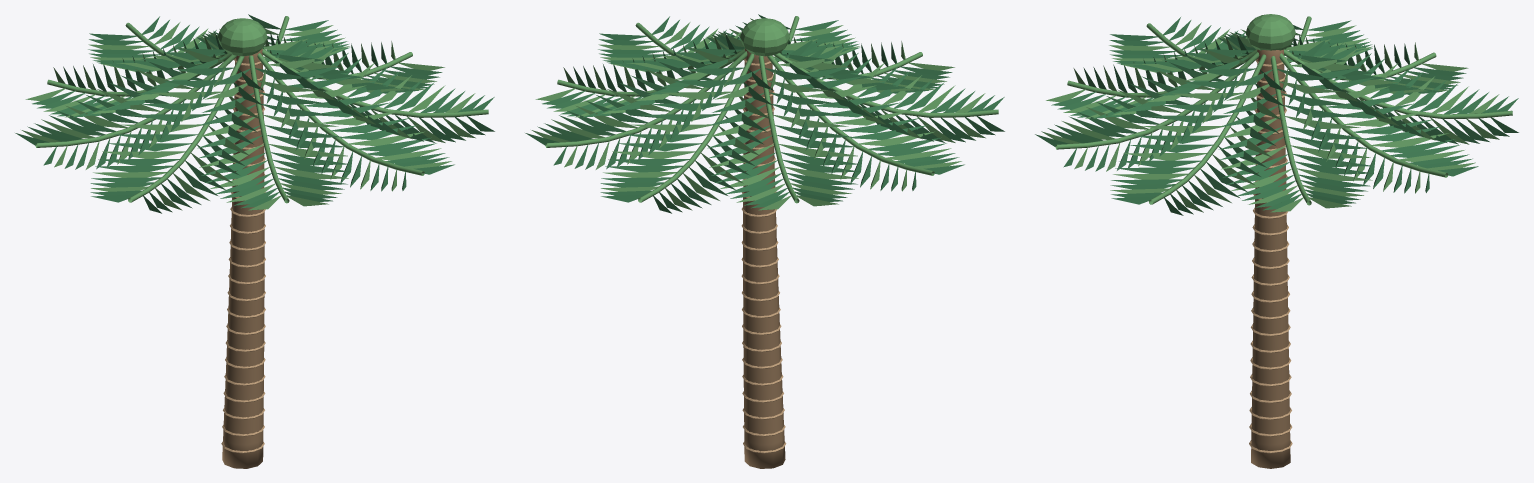
File: palmier_baie_des_rois.glb
The picture shows the model from 3 angles, left to right: view 1: azimuth 30°, elevation 25°; view 2: azimuth 150°, elevation 25°; view 3: azimuth 270°, elevation 25°; orthographic projection.
Visible parts, largest first — view 1: Palm_Leaves_Merged, Palm_Trunk, Palm_Rachis_Merged, Palm_Rings_Merged, Palm_Crown; view 2: Palm_Leaves_Merged, Palm_Trunk, Palm_Rachis_Merged, Palm_Rings_Merged, Palm_Crown; view 3: Palm_Leaves_Merged, Palm_Trunk, Palm_Rachis_Merged, Palm_Rings_Merged, Palm_Crown.
Part boxes in pixels (x1,y1,x2,y2): Palm_Leaves_Merged: (15, 14, 494, 213); Palm_Trunk: (222, 49, 264, 468); Palm_Rachis_Merged: (35, 16, 488, 203); Palm_Rings_Merged: (221, 58, 265, 453); Palm_Crown: (217, 18, 267, 56); Palm_Leaves_Merged: (525, 14, 1004, 213); Palm_Trunk: (743, 48, 785, 468); Palm_Rachis_Merged: (545, 16, 998, 203); Palm_Rings_Merged: (741, 59, 786, 453); Palm_Crown: (740, 18, 789, 56); Palm_Leaves_Merged: (1035, 17, 1518, 215); Palm_Trunk: (1251, 49, 1290, 468); Palm_Rachis_Merged: (1055, 16, 1512, 205); Palm_Rings_Merged: (1249, 59, 1292, 453); Palm_Crown: (1245, 14, 1295, 50).
Size of the model in its own units: 6.43 by 6.59 by 6.54.
